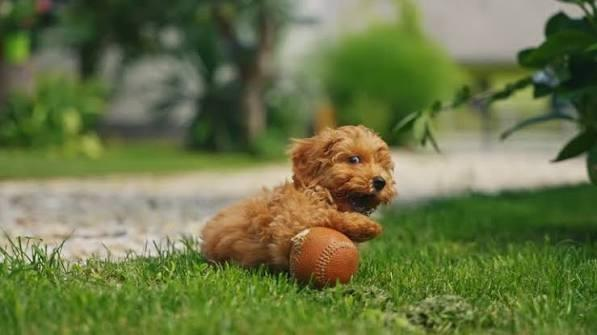puppy-dog: (199, 122, 399, 274)
